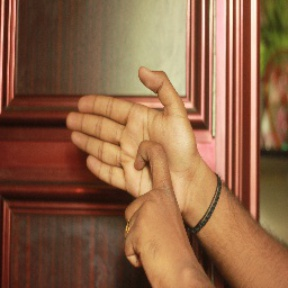R: (61, 65, 209, 261)
